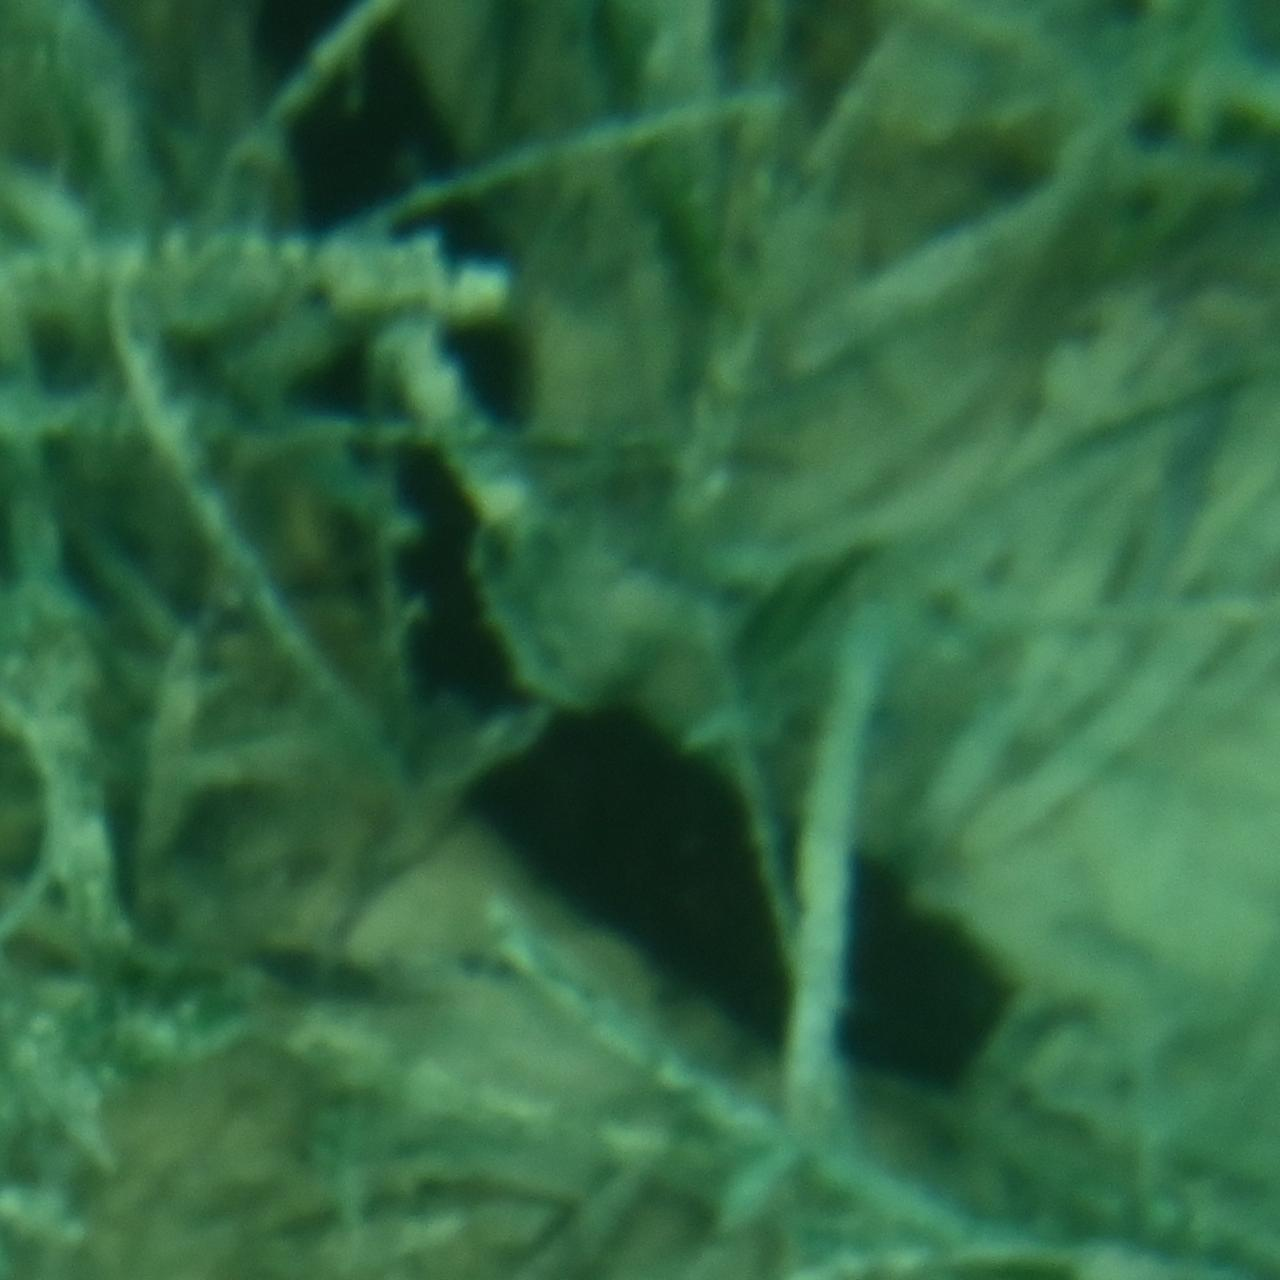Holothuria tubulosa: (253, 0, 1027, 1124)
